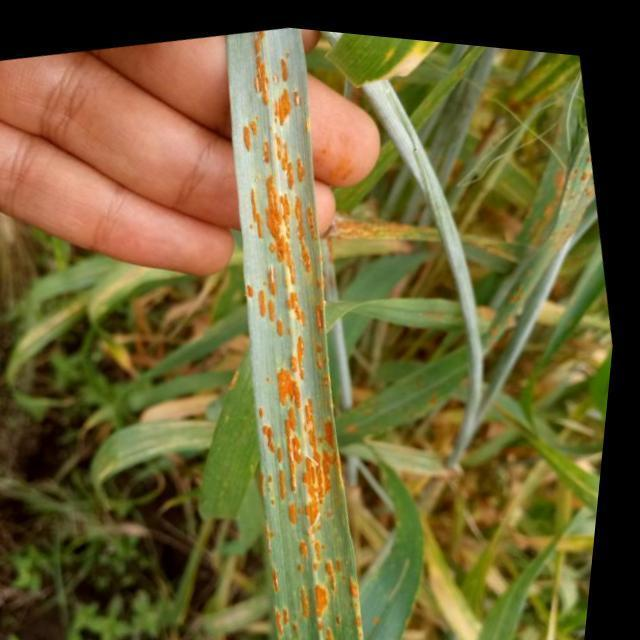Stem_Rust: (224, 21, 377, 639)
